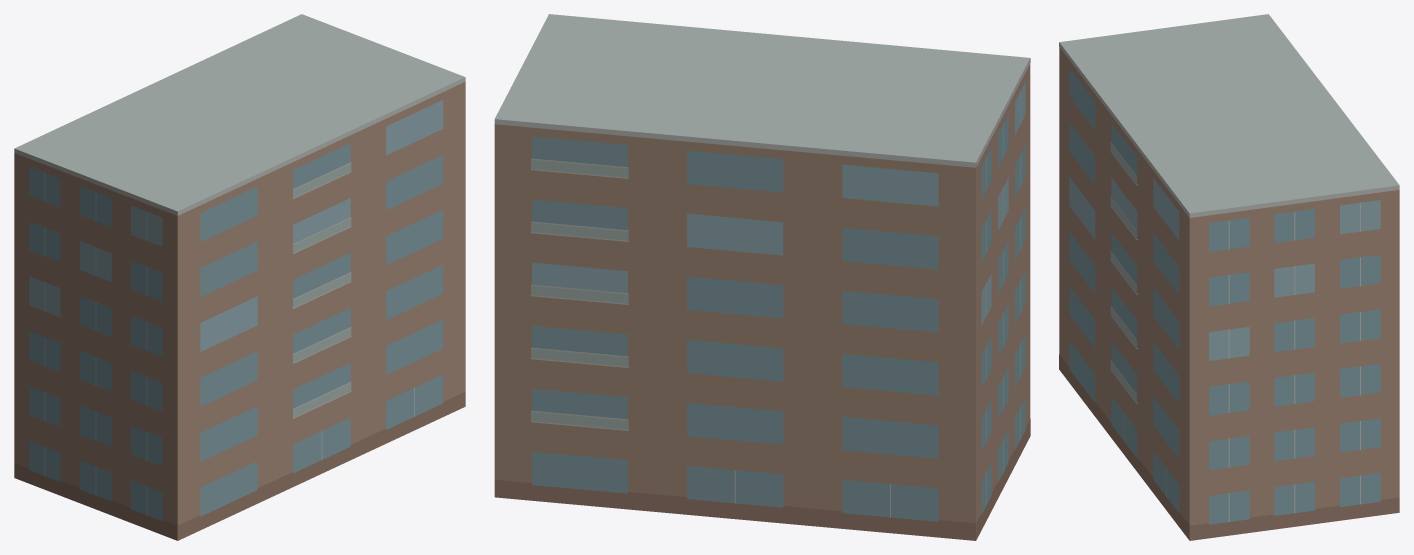
File: survey-upis-33013177.glb
3 renders of one model, left to right at view 1: azimuth 30°, elevation 25°; view 2: azimuth 150°, elevation 25°; view 3: azimuth 270°, elevation 25°, orthographic. The views are drawn at different scales.
Parts seen in each view (by area): view 1: survey-upis-33013177.tmp; view 2: survey-upis-33013177.tmp; view 3: survey-upis-33013177.tmp.
Part boxes in pixels (x1,y1,x2,y2): survey-upis-33013177.tmp: [14, 14, 465, 540]; survey-upis-33013177.tmp: [494, 14, 1030, 540]; survey-upis-33013177.tmp: [1059, 14, 1399, 540].
Bounding box in the file's own units: 23.68 × 18.1 × 17.08.
